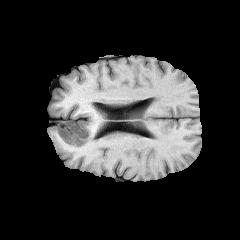glioma: (60, 121, 97, 148)
